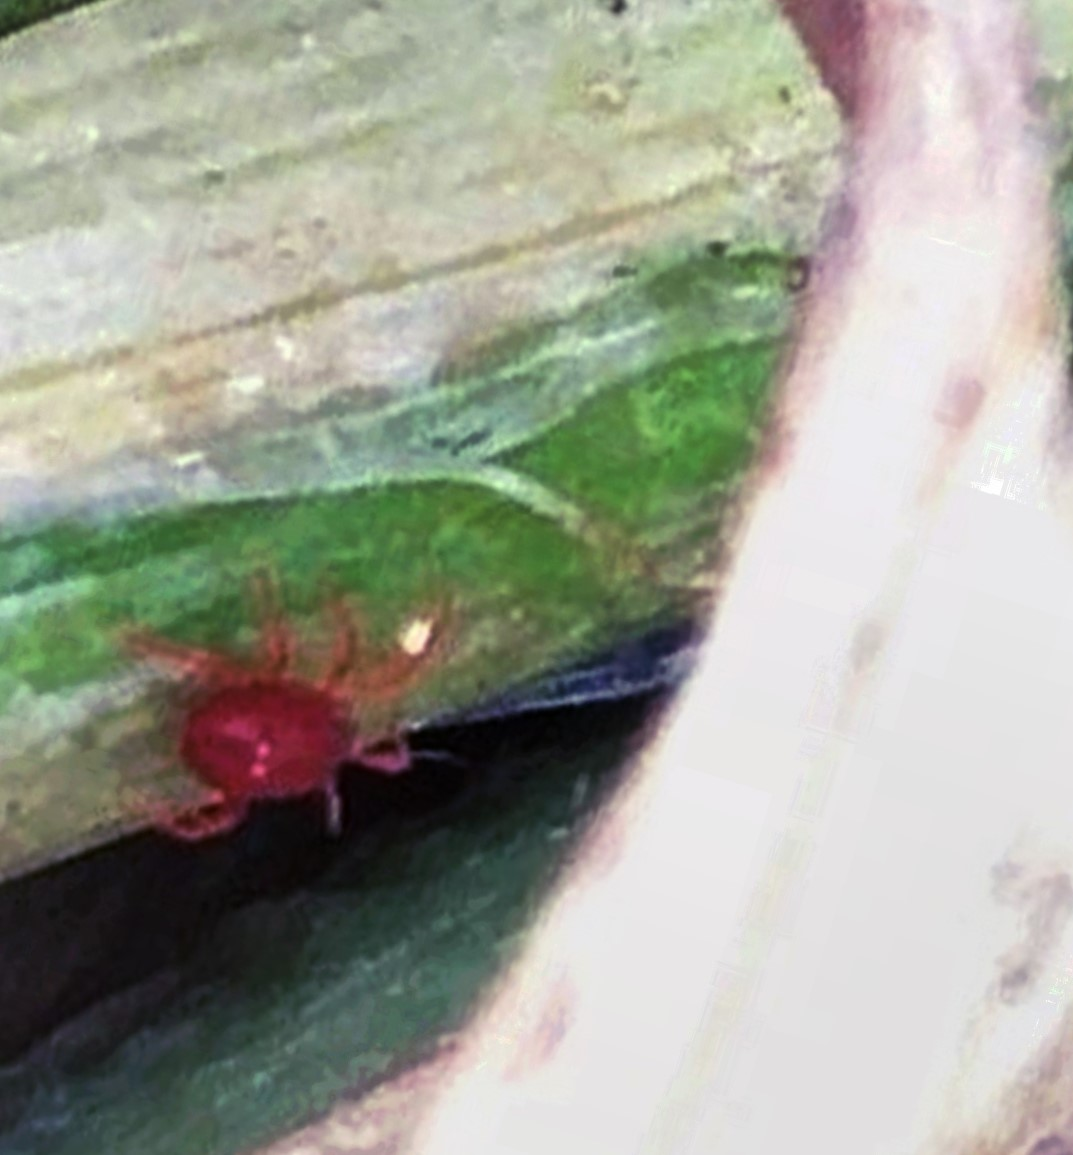Wheat Red Spider: (93, 558, 472, 882)
